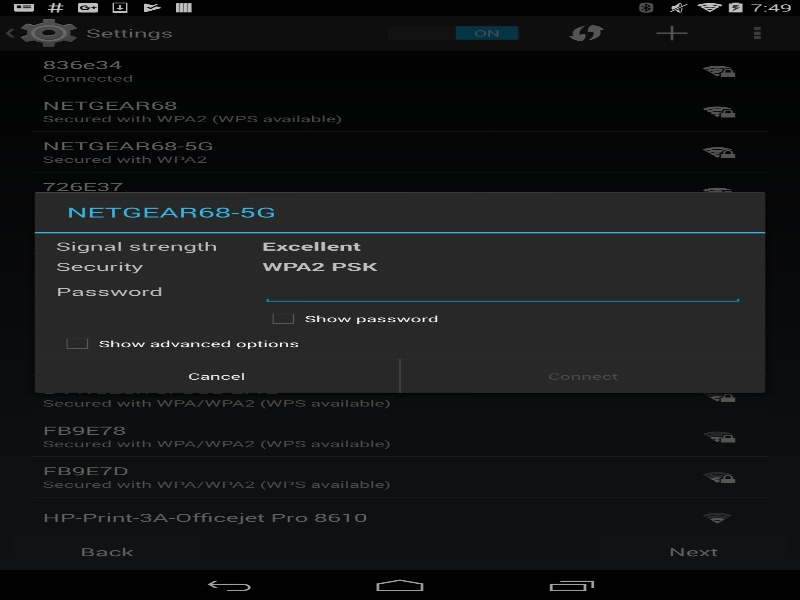Button: (34, 359, 399, 393), (400, 359, 765, 393)
Input: (262, 279, 744, 303)
